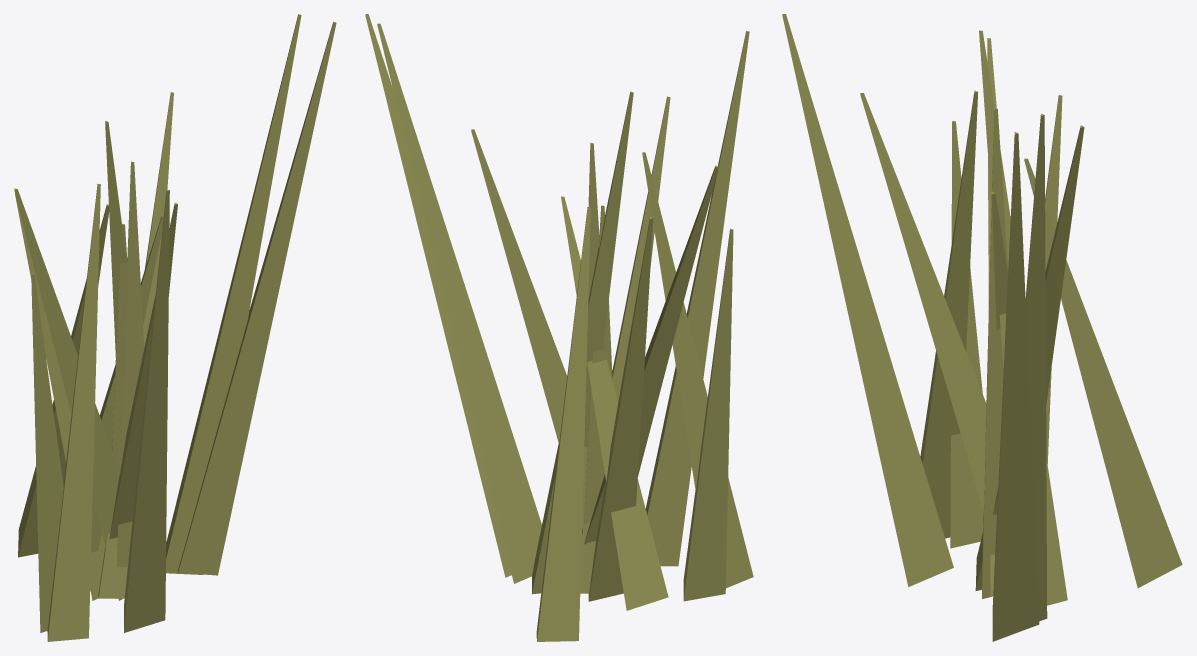
The model's file is Sawgrass.fbx.
The picture shows the model from 3 angles, left to right: view 1: azimuth 30°, elevation 25°; view 2: azimuth 150°, elevation 25°; view 3: azimuth 270°, elevation 25°; orthographic projection. The views are drawn at different scales.
Parts seen in each view (by area): view 1: Sawgrass; view 2: Sawgrass; view 3: Sawgrass.
Part boxes in pixels (x1=…): Sawgrass: x1=14, y1=14, x2=336, y2=641; Sawgrass: x1=365, y1=14, x2=753, y2=641; Sawgrass: x1=782, y1=14, x2=1182, y2=641.
Size of the model in its own units: 349 by 519 by 322.
